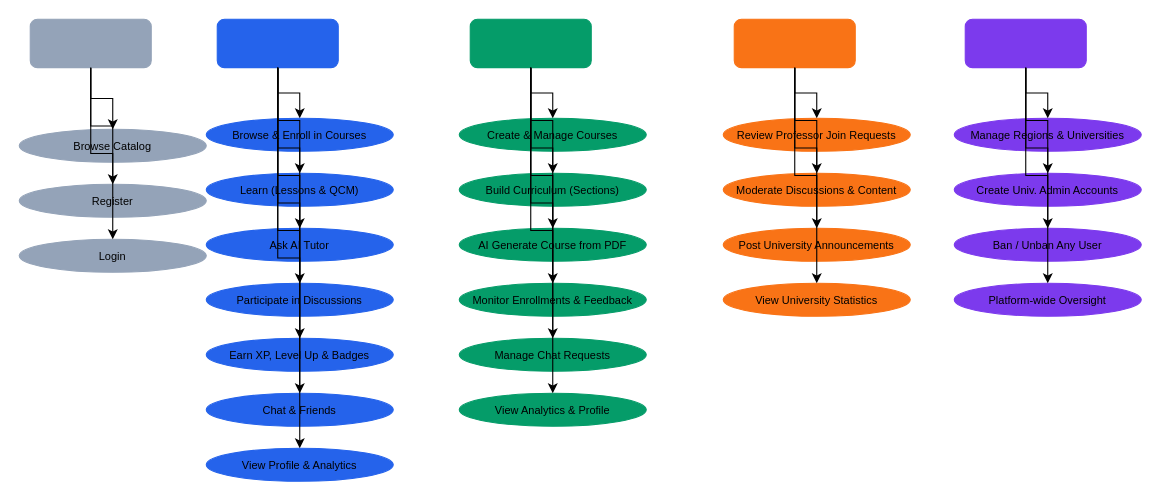
Some shapes in this 1161 by 501 pixel diagram are drawn without their labels. The shapes that lost their labels are listed below. From the top down, each one's centre as x and y in pixels, then its label:
At point 90,43: "«actor» Visitor".
At point 277,43: "«actor» Student".
At point 530,43: "«actor» Professor".
At point 794,43: "«actor» Univ. Admin".
At point 1025,43: "«actor» Super Admin".
